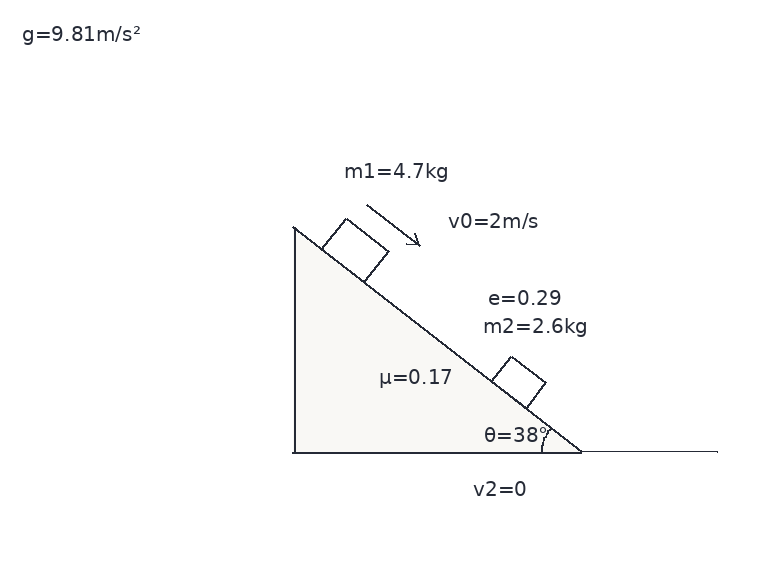block: (320, 216, 390, 284), (489, 354, 548, 410)
ramp: (292, 225, 584, 454)
